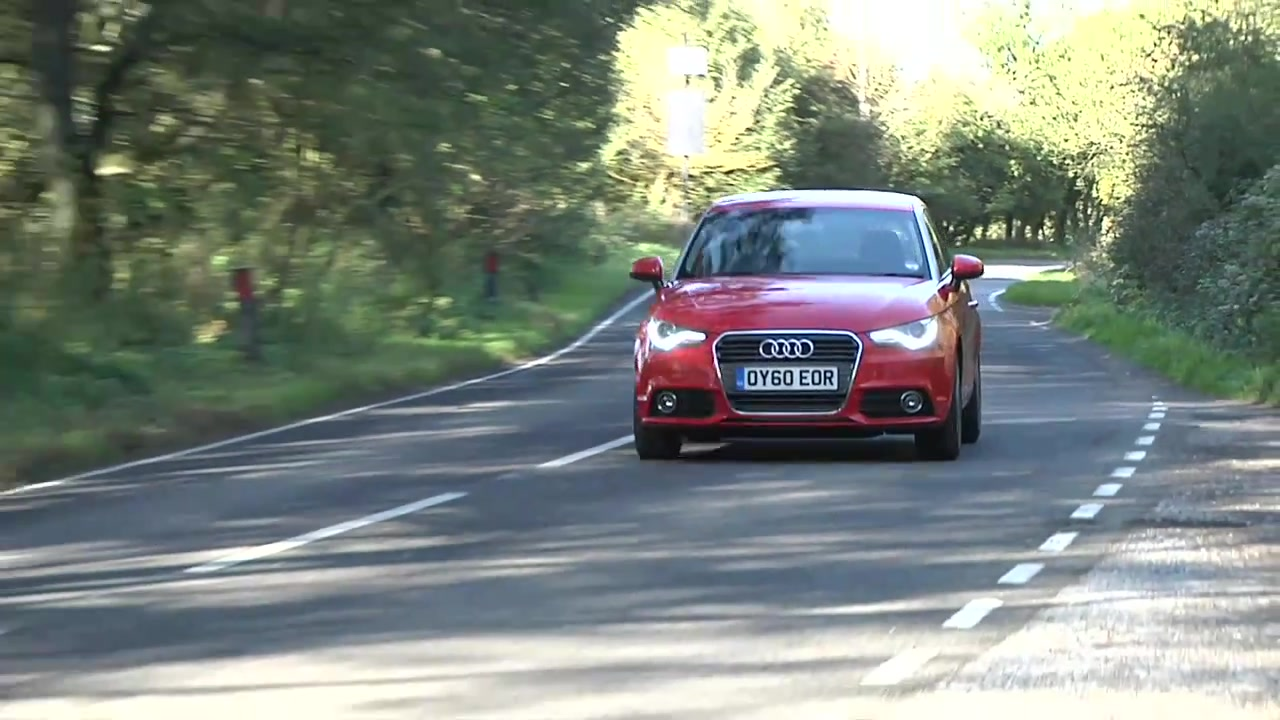car: (626, 187, 993, 470)
